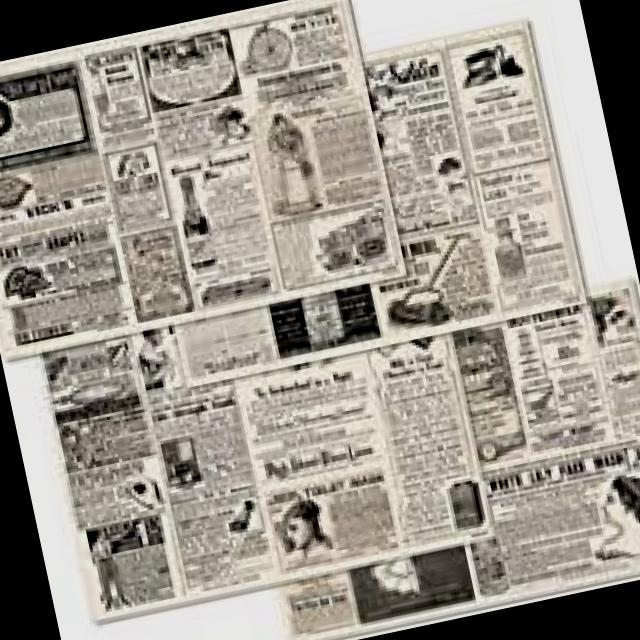paper: (47, 231, 640, 640), (0, 0, 405, 355), (366, 22, 587, 321)
